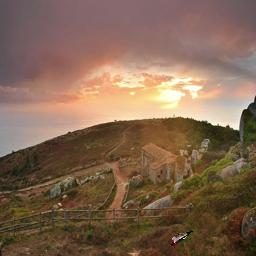Woodpecker: (167, 230, 196, 246)
